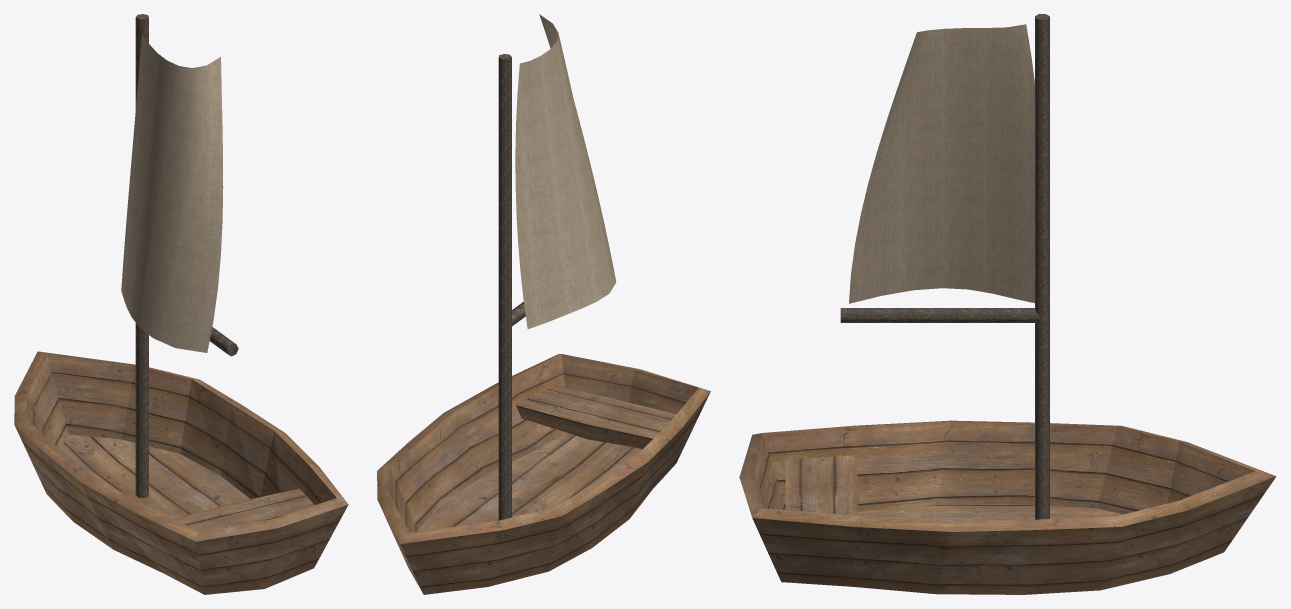
The model's file is boat(1).glb.
3 renders of one model, left to right at view 1: azimuth 30°, elevation 25°; view 2: azimuth 150°, elevation 25°; view 3: azimuth 270°, elevation 25°, orthographic. The views are drawn at different scales.
Visible parts, largest first — view 1: Plane001; view 2: Plane001; view 3: Plane001.
Part boxes in pixels (<box>): Plane001: <box>14,14,348,594</box>; Plane001: <box>377,14,710,594</box>; Plane001: <box>739,14,1276,594</box>.
Bounding box in the file's own units: 105 × 246 × 213.
3 materials, 3 textured.
